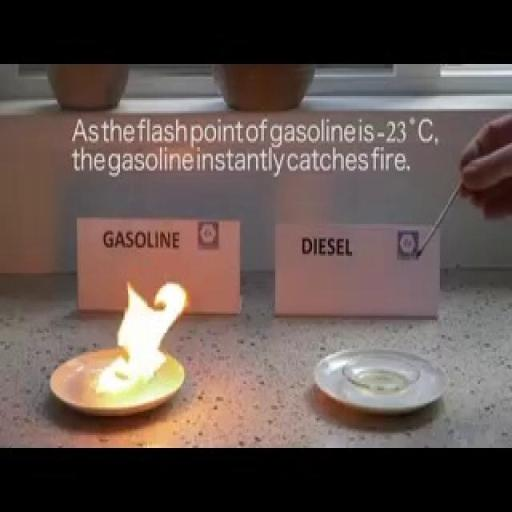smoke: (87, 243, 166, 399)
